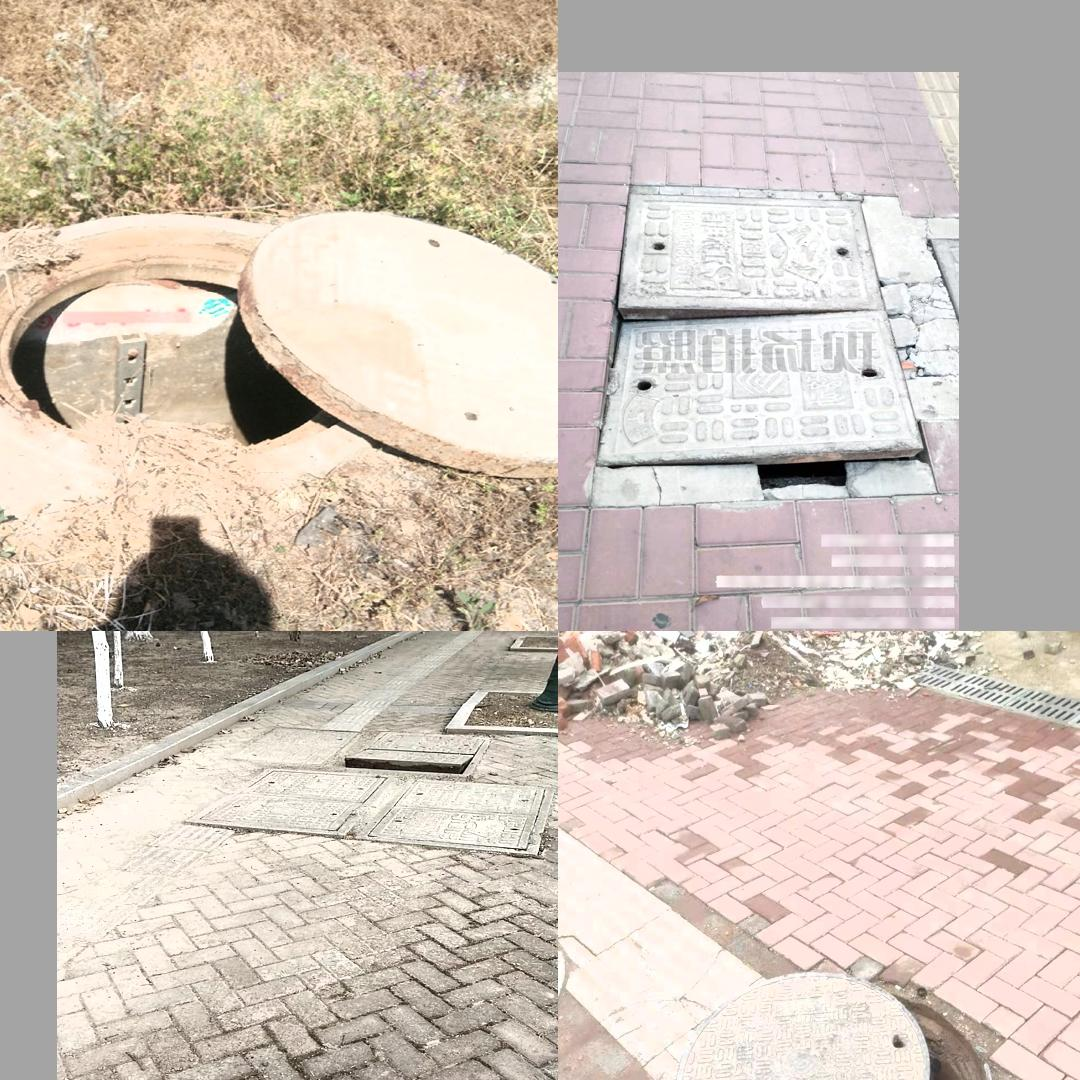good: (183, 767, 556, 857)
uncovered: (0, 174, 558, 504), (594, 184, 931, 483), (675, 970, 996, 1080), (343, 730, 492, 774)
